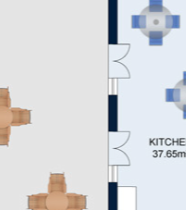double door: (105, 129, 134, 168), (105, 43, 134, 81)
window: (103, 77, 123, 96), (103, 163, 120, 184)
